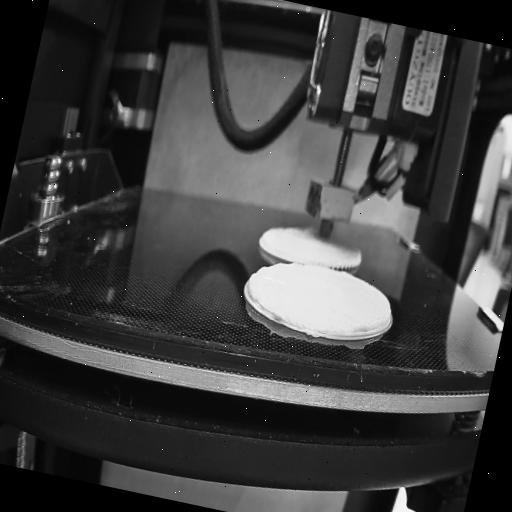over_extrusion: (241, 274, 262, 306)
